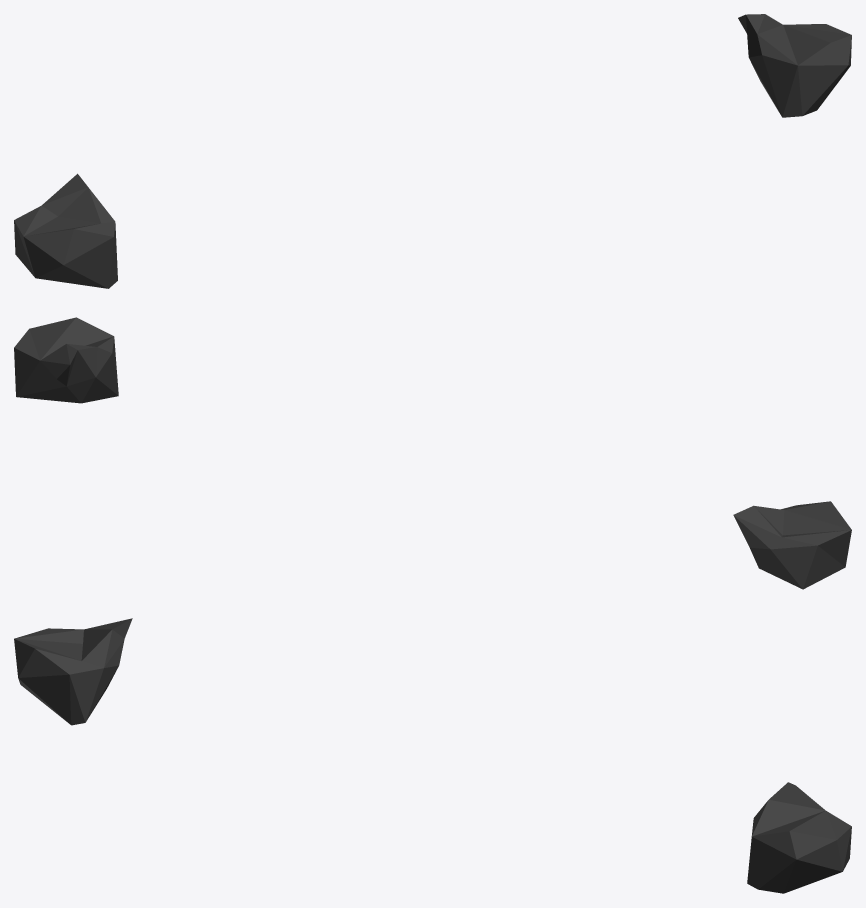
The model's file is Tarsal_central.glb.
The picture shows the model from 3 angles, top to bottom: view 1: azimuth 30°, elevation 25°; view 2: azimuth 150°, elevation 25°; view 3: azimuth 330°, elevation 25°; orthographic projection.
Parts seen in each view (by area): view 1: Tarsal_central; view 2: Tarsal_central; view 3: Tarsal_central.
Part boxes in pixels (bbox=[...]): Tarsal_central: bbox=[14, 14, 851, 288]; Tarsal_central: bbox=[14, 317, 851, 589]; Tarsal_central: bbox=[14, 618, 851, 893].
Size of the model in its own units: 0.00483 by 0.000434 by 0.000556.
1 material, 1 textured.
